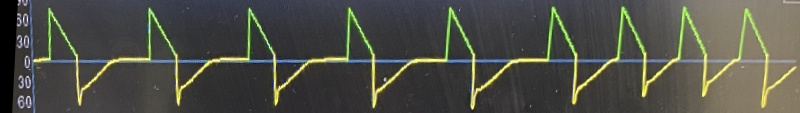normal_flow: (38, 0, 782, 113)
